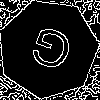G: (23, 24, 77, 82)
